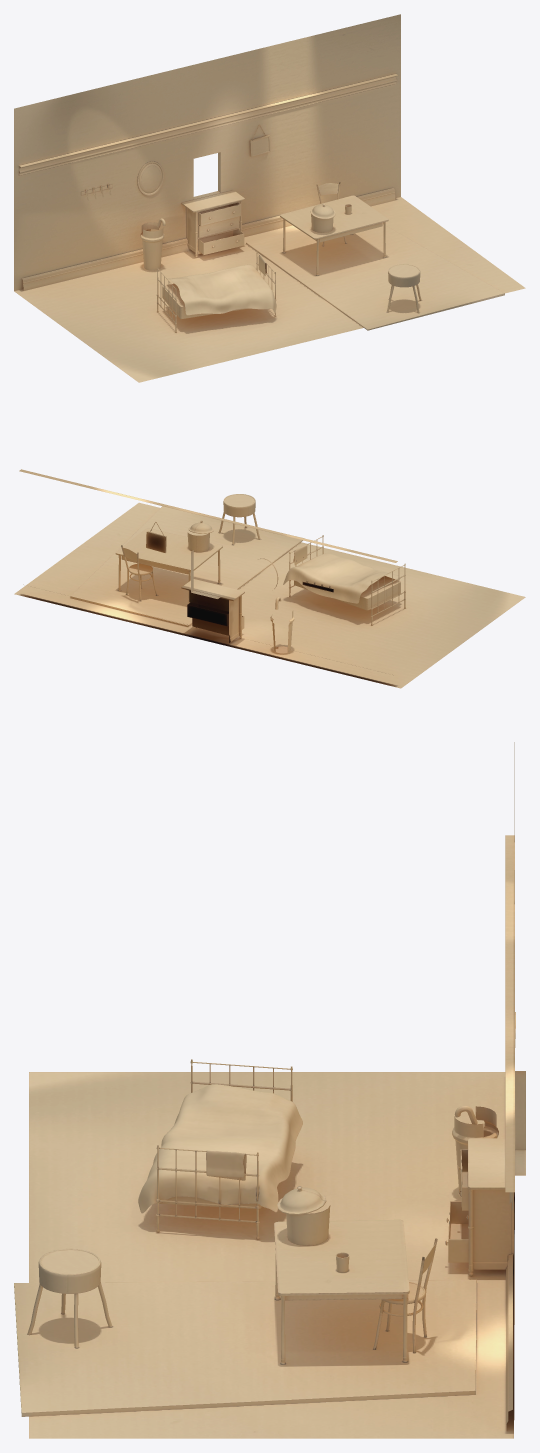
Rendered from room.gltf.
3 views of the same model, one above another, from view 1: azimuth 30°, elevation 25°; view 2: azimuth 150°, elevation 25°; view 3: azimuth 270°, elevation 25° (orthographic). The views are drawn at different scales.
Parts seen in each view (by area): view 1: room; view 2: room; view 3: room.
Boxes of the visible parts, x1,y1,x2,y2 form: room: (14, 14, 525, 382); room: (14, 469, 525, 688); room: (14, 742, 525, 1438).
Size of the model in its own units: 11.91 by 5.37 by 7.03.
1 material, 1 textured.
